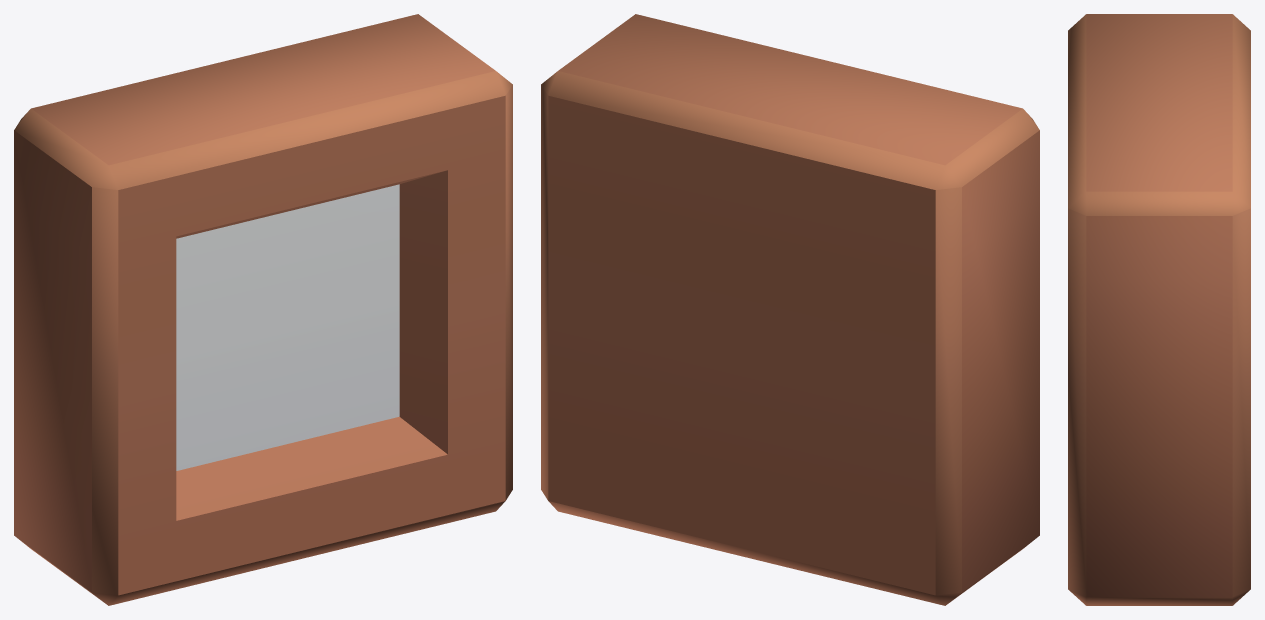
Rendered from kkf.pictureframe_small_c.glb.
3 renders of one model, left to right at view 1: azimuth 30°, elevation 25°; view 2: azimuth 150°, elevation 25°; view 3: azimuth 270°, elevation 25°, orthographic. The views are drawn at different scales.
Visible parts, largest first — view 1: pictureframe_small_C; view 2: pictureframe_small_C; view 3: pictureframe_small_C.
Part boxes in pixels (<box>): pictureframe_small_C: <box>14,14,512,605</box>; pictureframe_small_C: <box>541,14,1039,605</box>; pictureframe_small_C: <box>1068,14,1250,605</box>.
Bounding box in the file's own units: 0.1789 × 0.1789 × 0.0715.
1 material, 1 textured.
